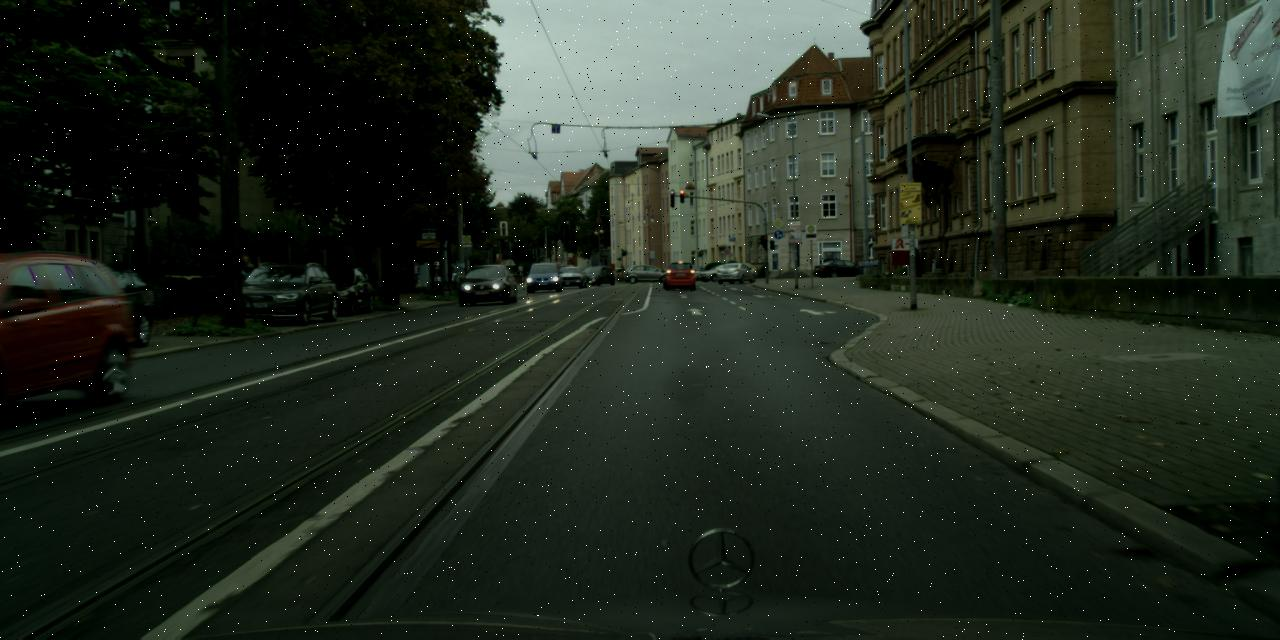ped: (235, 254, 257, 308), (252, 254, 272, 307)
